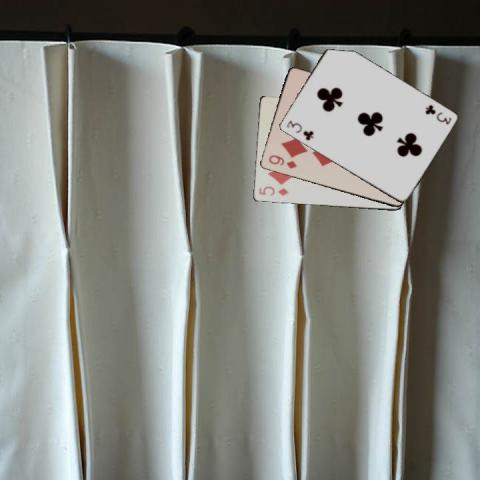3c: (283, 117, 315, 142), (422, 101, 453, 126)
5d: (255, 184, 290, 197)
9d: (265, 152, 298, 170)
